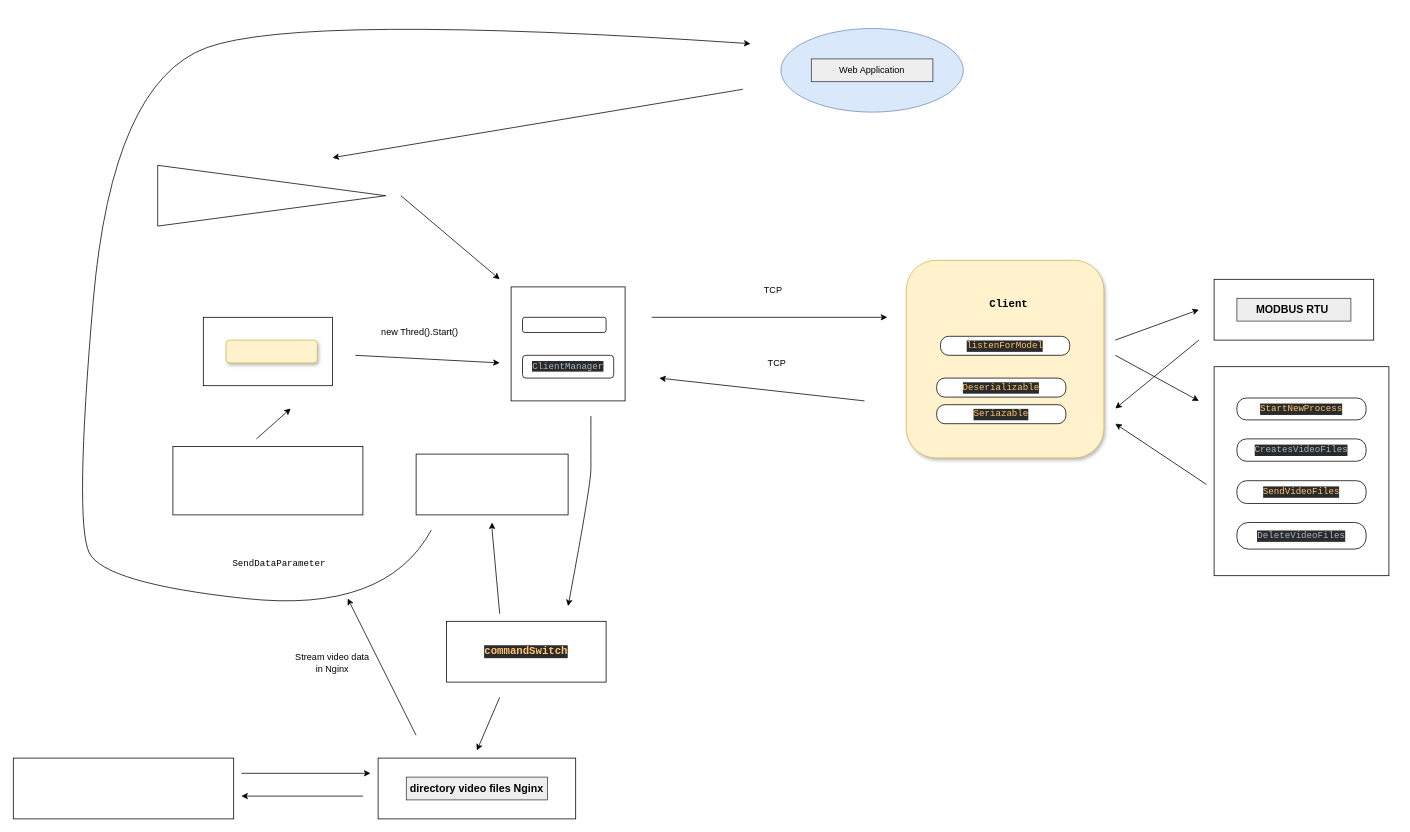
Image size: 1410x832. Some labels were removed from this diagram. Here are the shapes that lost their labels. From the top down, the centre of each, then its label:
At pixel 271 195: "http - запрос".
At pixel 564 324: "HttpListener".
At pixel 272 352: "Server".
At pixel 267 480: "AsuTcpServerApplication.Run()".
At pixel 491 484: "SaveModelSql".
At pixel 123 788: "DeleteFilesInDirectoryNginx".
